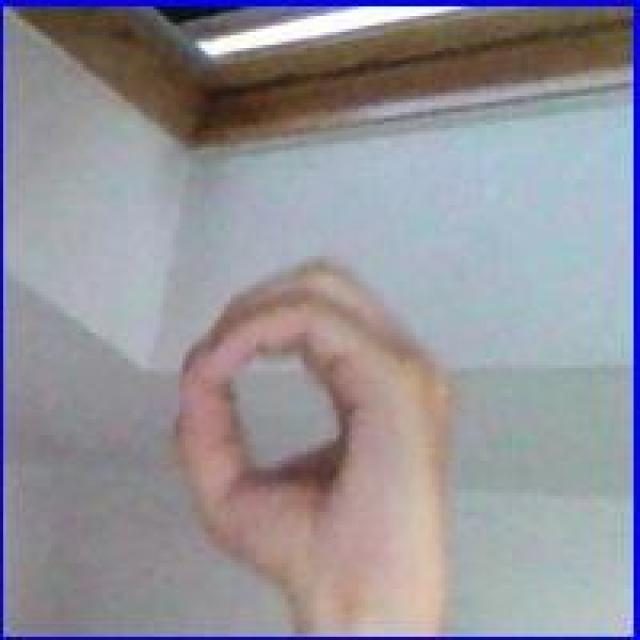O: (164, 248, 470, 597)
